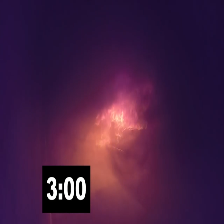fire_h: (98, 96, 144, 134), (98, 134, 121, 151)
